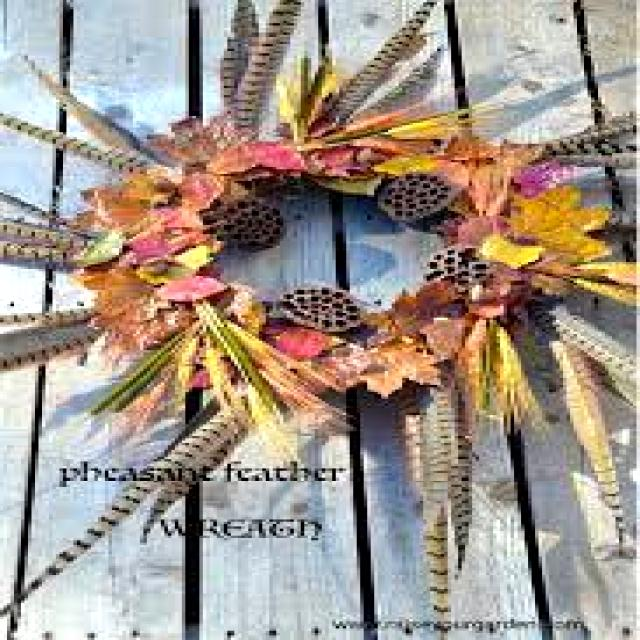Phasianus Colchicus: (0, 414, 256, 616), (216, 0, 310, 124), (424, 500, 454, 636)
